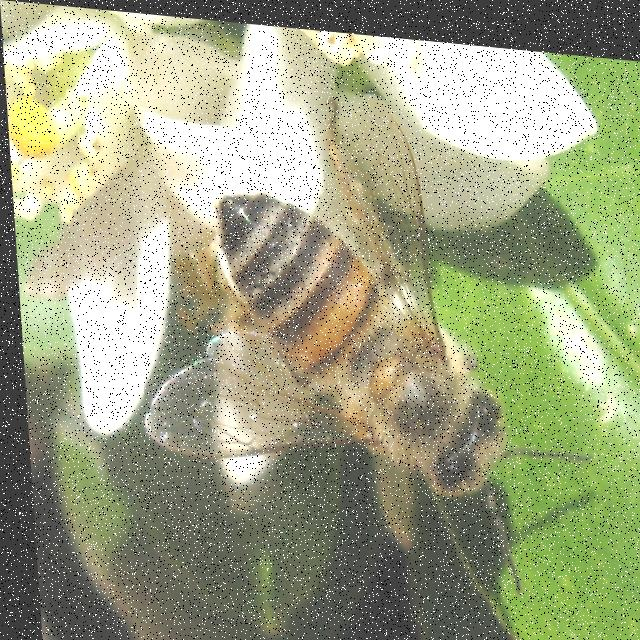Apis-mellifera-scutellata: (122, 59, 578, 627)
